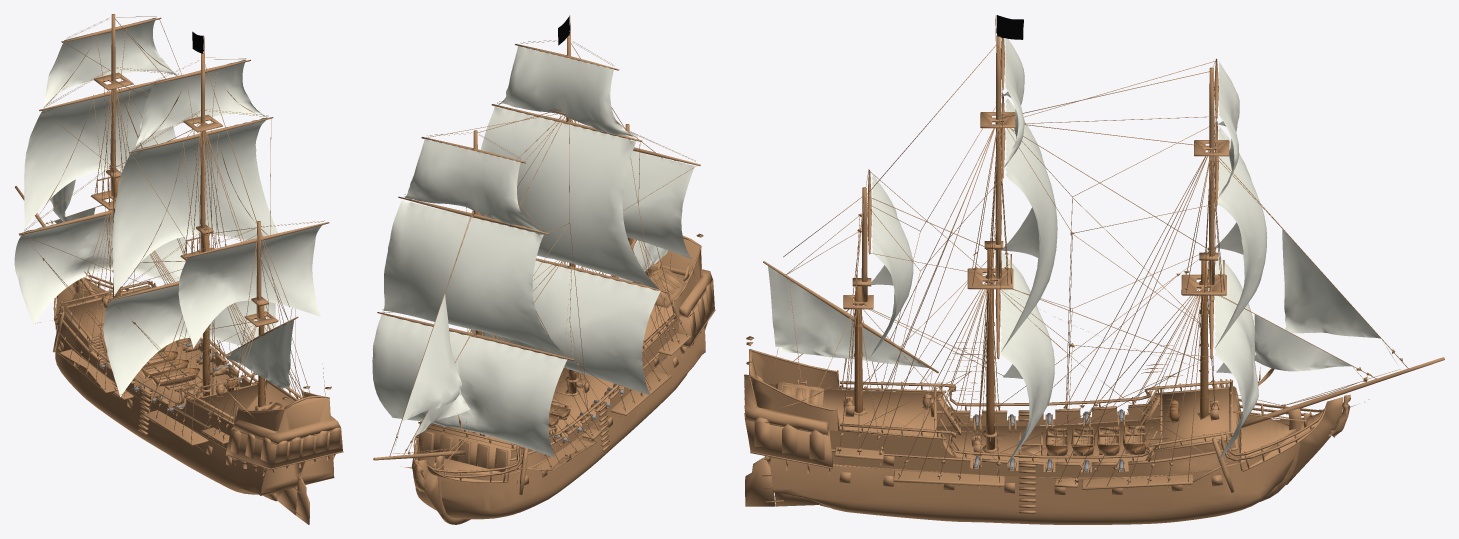
3 renders of one model, left to right at view 1: azimuth 30°, elevation 25°; view 2: azimuth 150°, elevation 25°; view 3: azimuth 270°, elevation 25°, orthographic. The views are drawn at different scales.
Parts seen in each view (by area): view 1: BlackPearl; view 2: BlackPearl; view 3: BlackPearl.
Boxes of the visible parts, left/top/right/bottom form: BlackPearl: left=14, top=14, right=343, bottom=524; BlackPearl: left=372, top=15, right=715, bottom=524; BlackPearl: left=744, top=15, right=1444, bottom=524.
Size of the model in its own units: 17004 by 36395 by 45866.
